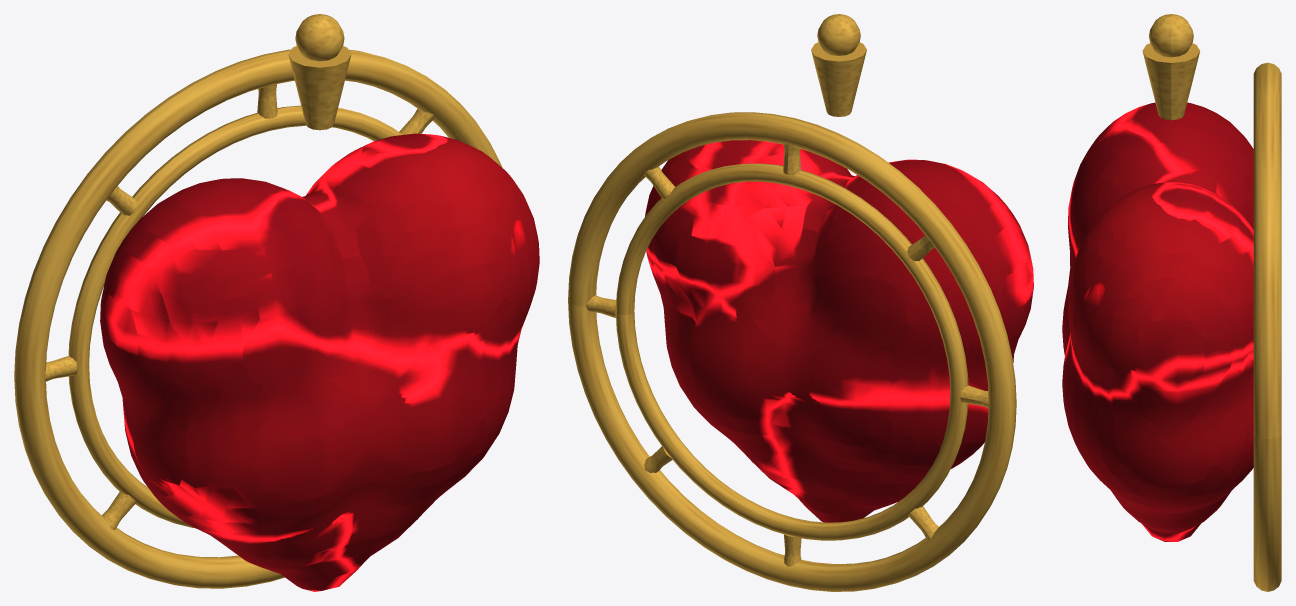
File: prp_crimson_heart_container.glb
3 renders of one model, left to right at view 1: azimuth 30°, elevation 25°; view 2: azimuth 150°, elevation 25°; view 3: azimuth 270°, elevation 25°, orthographic. The views are drawn at different scales.
Visible parts, largest first — view 1: heart, frame, crown, filigree; view 2: heart, frame, crown, filigree; view 3: heart, frame, crown.
Part boxes in pixels (box(x1,y1,x2,y2)): heart: box(100, 133, 539, 591); frame: box(14, 49, 502, 588); crown: box(288, 14, 351, 130); filigree: box(45, 83, 434, 529); heart: box(645, 140, 1033, 522); frame: box(568, 112, 1016, 591); crown: box(811, 14, 866, 116); filigree: box(586, 144, 989, 566); heart: box(1062, 102, 1253, 541); frame: box(1253, 62, 1281, 591); crown: box(1142, 14, 1199, 120).
Bounding box in the file's own units: 1.65 × 1.9 × 0.6839.
3 materials, 3 textured.
